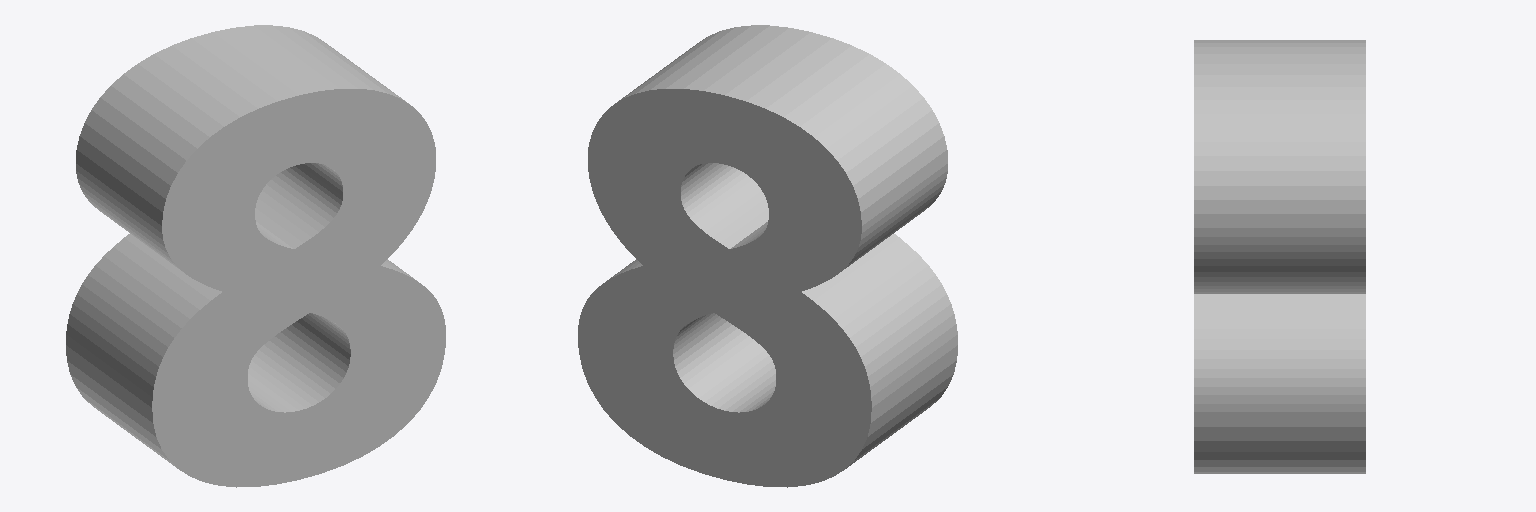
3 renders of one model, left to right at view 1: azimuth 30°, elevation 25°; view 2: azimuth 150°, elevation 25°; view 3: azimuth 270°, elevation 25°, orthographic.
Visible parts, largest first — view 1: テキスト; view 2: テキスト; view 3: テキスト.
Part boxes in pixels (x1,y1,x2,y2): テキスト: (66, 25, 445, 487); テキスト: (578, 25, 957, 487); テキスト: (1194, 40, 1365, 473).
Bounding box in the file's own units: 0.3927 × 0.4908 × 0.2.